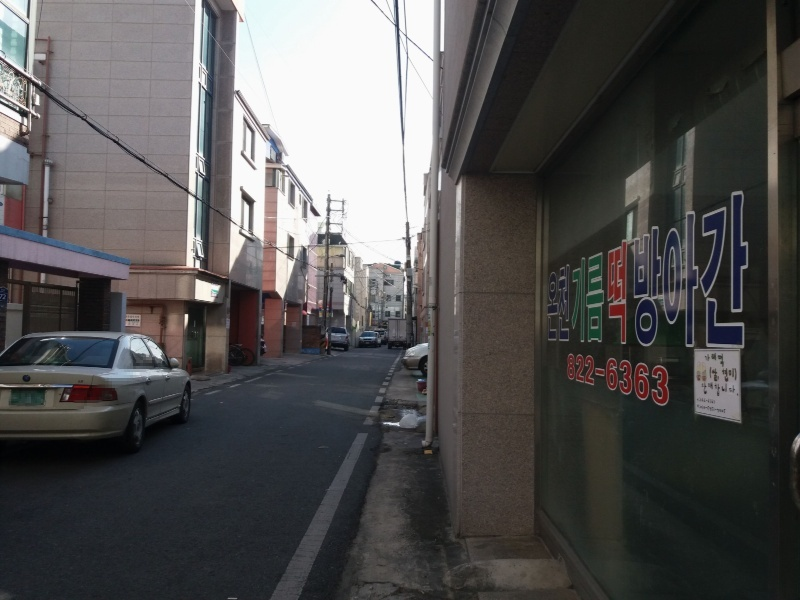text: (561, 183, 576, 353), (577, 183, 592, 353), (593, 183, 608, 353), (609, 183, 624, 353), (625, 183, 640, 353), (641, 183, 656, 353), (657, 183, 672, 353), (673, 183, 688, 353), (689, 183, 704, 353), (705, 183, 720, 353), (721, 183, 736, 353), (737, 183, 751, 353), (548, 183, 560, 353), (609, 358, 624, 408), (625, 358, 640, 408), (641, 358, 656, 408), (657, 358, 670, 408), (577, 353, 592, 385), (568, 353, 576, 385), (705, 381, 720, 398), (721, 381, 736, 398), (721, 367, 736, 383), (705, 353, 720, 368), (709, 367, 720, 383), (595, 368, 608, 377), (606, 358, 608, 408), (705, 398, 716, 405), (708, 406, 720, 412), (593, 353, 595, 385), (721, 353, 725, 368), (212, 294, 224, 298), (130, 319, 144, 322), (697, 404, 704, 409), (702, 381, 704, 398), (737, 381, 739, 398), (129, 316, 140, 319), (129, 323, 144, 325), (129, 322, 144, 324), (700, 398, 704, 405), (697, 398, 704, 402), (721, 409, 726, 414), (737, 367, 738, 383), (706, 407, 720, 408), (701, 406, 704, 410), (718, 409, 720, 414), (715, 409, 720, 411), (126, 316, 128, 319)
